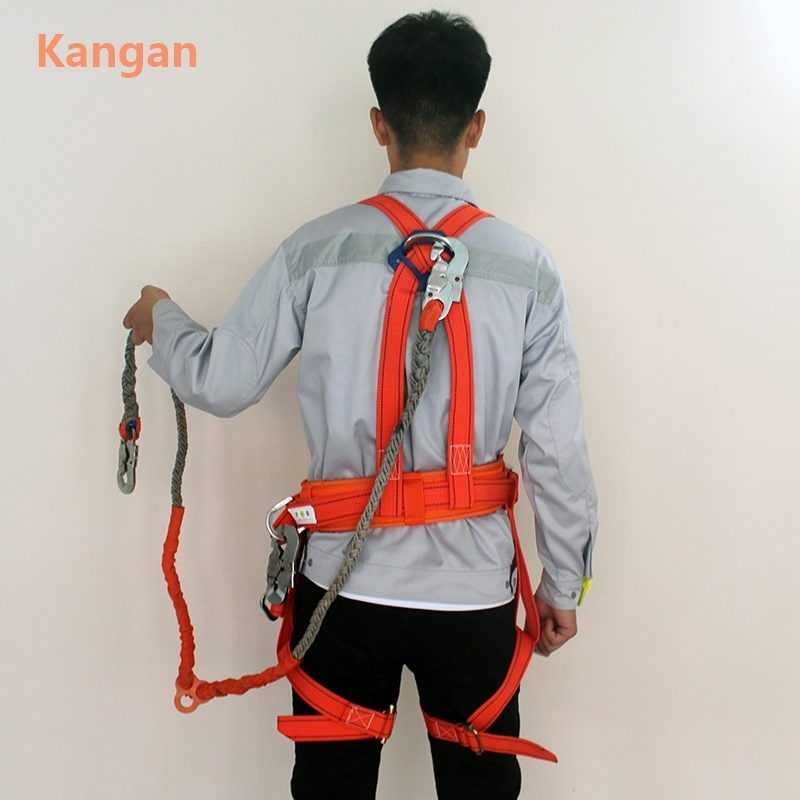Helmet: (367, 10, 490, 143)
Person: (191, 6, 582, 800)
Safety_Harness: (113, 188, 556, 800)
